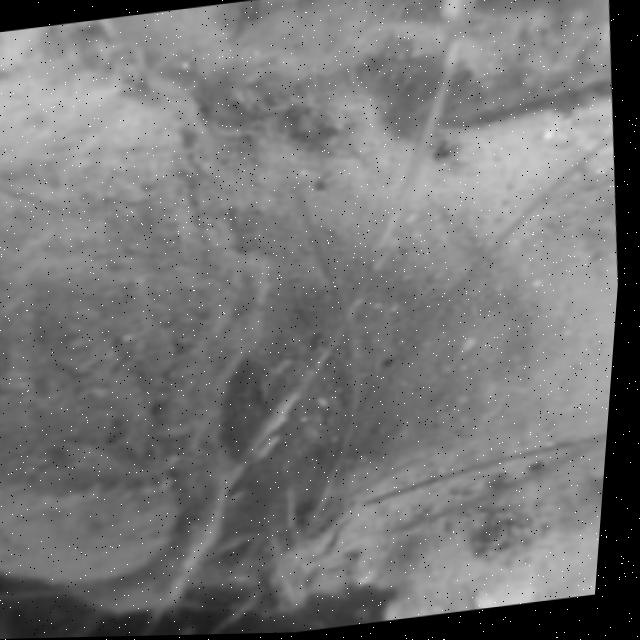Oyster-Closed: (0, 28, 270, 617)
Oyster-Indeterminate: (0, 471, 194, 578)
